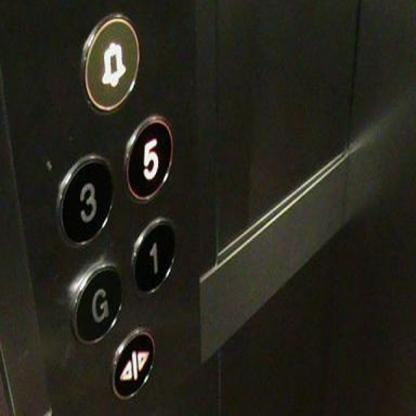1: (128, 214, 178, 301)
3: (55, 150, 115, 246)
5: (124, 113, 175, 200)
G: (69, 258, 124, 346)
alarm: (79, 10, 140, 114)
open: (109, 328, 156, 400)
